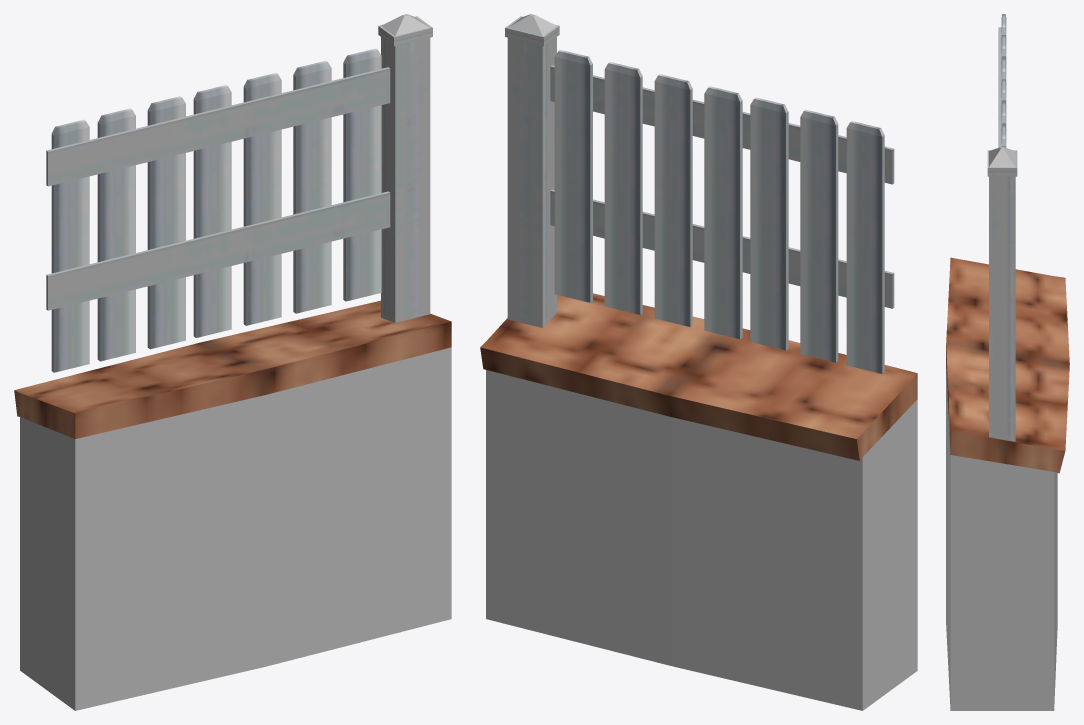
File: plaster_wall_half_fenced.fbx
3 views of the same model, side by side, from view 1: azimuth 30°, elevation 25°; view 2: azimuth 150°, elevation 25°; view 3: azimuth 270°, elevation 25° (orthographic). The views are drawn at different scales.
Visible parts, largest first — view 1: Body; view 2: Body; view 3: Body.
Boxes of the visible parts, x1,y1,x2,y2 form: Body: (14, 14, 451, 710); Body: (480, 14, 917, 710); Body: (946, 14, 1069, 710).
Bounding box in the file's own units: 100 × 148 × 30.
